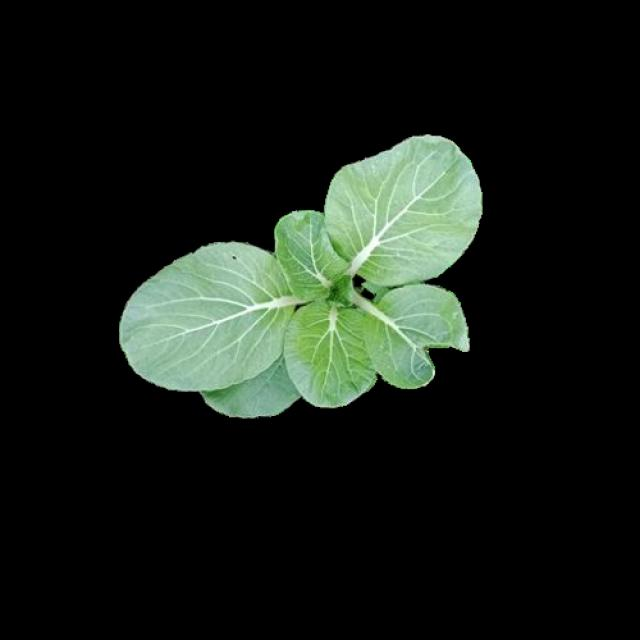not-mature: (119, 133, 485, 417)
unhealthy: (363, 283, 466, 388)
